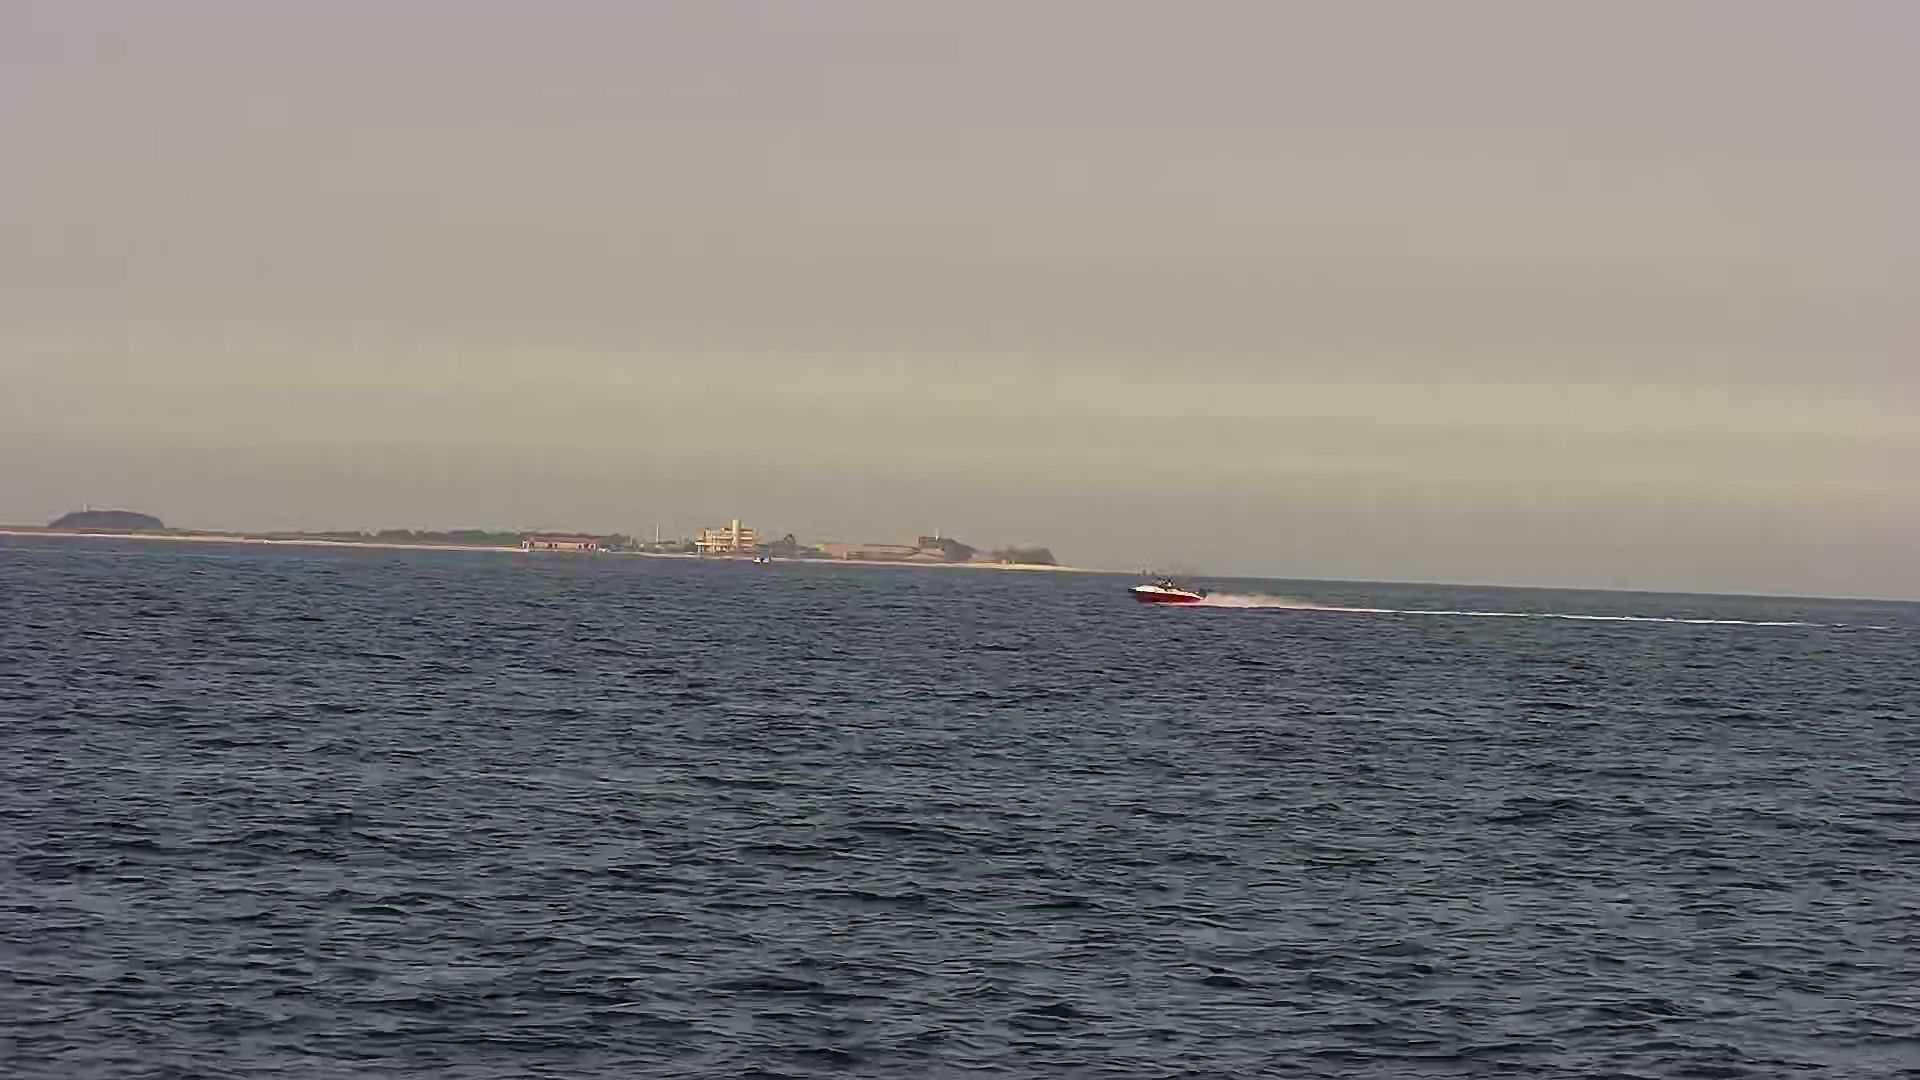boat: (1122, 568, 1215, 607)
